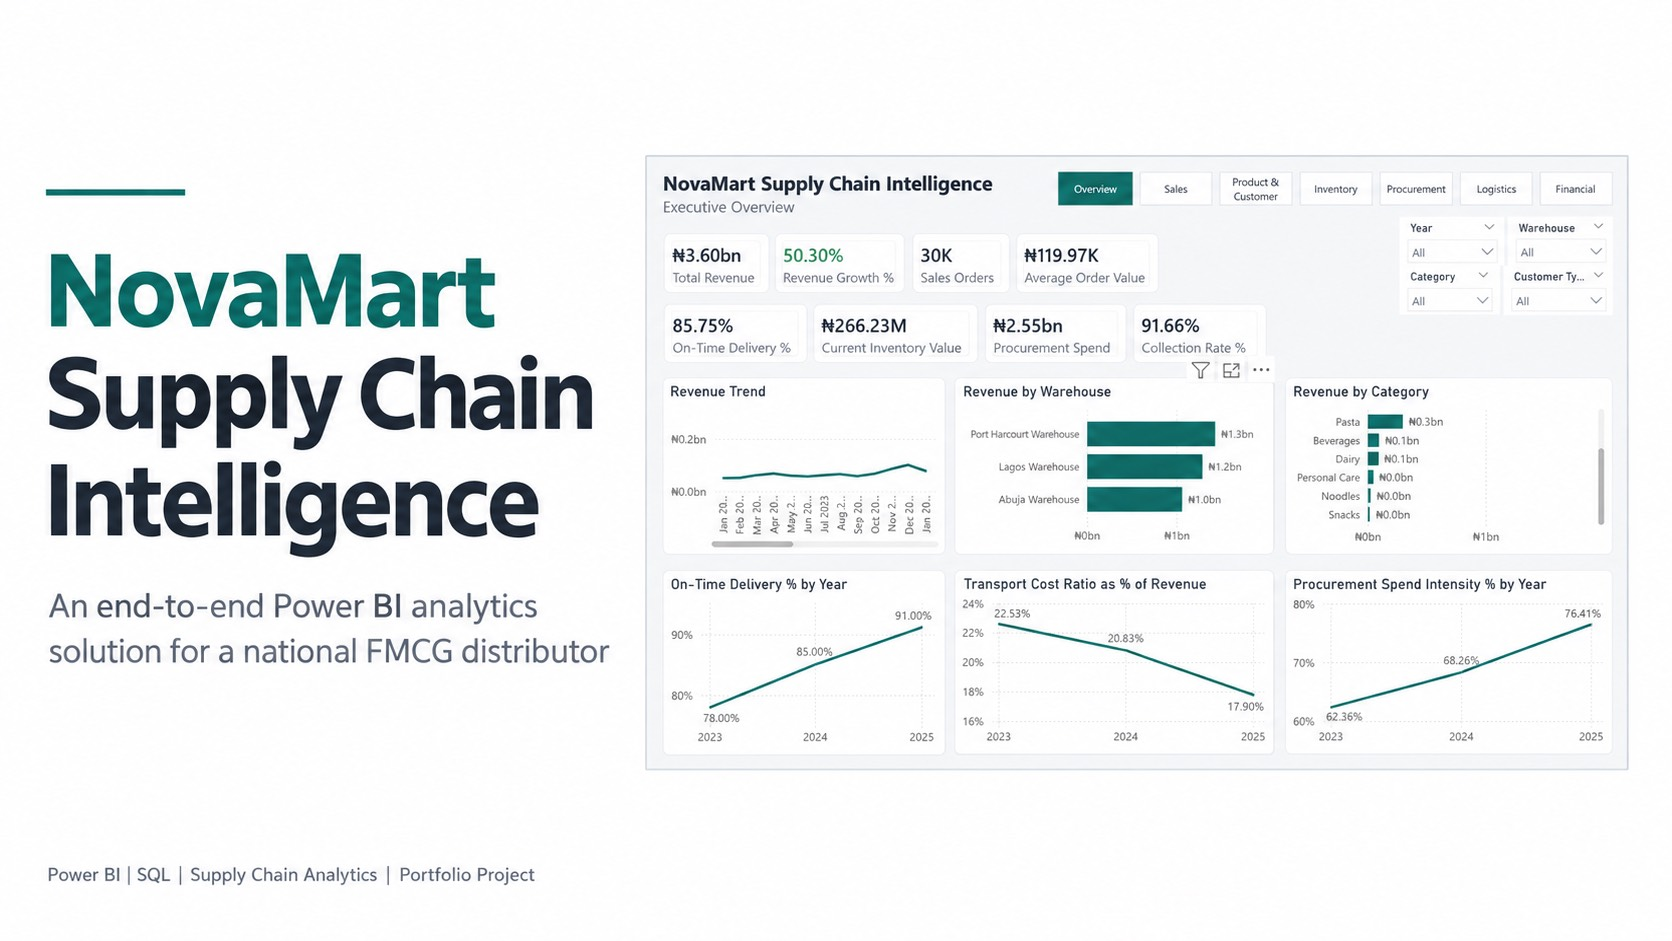

This screenshot's page, from the dashboard's own definition file:
{"tool":"powerbi","page":{"name":"Overview","canvas":[1280,720],"ordinal":0},"visuals":[{"type":"textbox","box":[10,0,443.3,93.3],"z":0},{"type":"slicer","fields":{"Values":["Date.Year"]},"box":[990,65,136.2,58.8],"z":1000},{"type":"slicer","fields":{"Values":["warehouses.WarehouseName"]},"box":[1126.2,62.5,136.2,58.8],"z":2000},{"type":"slicer","fields":{"Values":["categories.CategoryName"]},"box":[990,122.5,125,60],"z":3000},{"type":"slicer","fields":{"Values":["customers.CustomerType"]},"box":[1116.2,122.5,146.2,61.2],"z":4000},{"type":"cardVisual","fields":{"Data":["Measures_Table.Total Revenue"]},"box":[30.5,86.3,119.5,69],"z":5000},{"type":"cardVisual","fields":{"Data":["Measures_Table.Revenue Growth %"]},"box":[153.3,86,153.3,68.8],"z":6000},{"type":"cardVisual","fields":{"Data":["Measures_Table.Sales Orders"]},"box":[323.8,84.5,112.6,70.4],"z":7000},{"type":"cardVisual","fields":{"Data":["Measures_Table.Average Order Value"]},"box":[443,85,169,69],"z":8000},{"type":"cardVisual","fields":{"Data":["Measures_Table.On-Time Delivery %"]},"box":[32,171,169,70],"z":9000},{"type":"cardVisual","fields":{"Data":["Measures_Table.Current Inventory Value"]},"box":[208,172,197,69],"z":10000},{"type":"cardVisual","fields":{"Data":["Measures_Table.Procurement Spend"]},"box":[413,172,165,69],"z":11000},{"type":"cardVisual","fields":{"Data":["Measures_Table.Collection Rate %"]},"box":[586,171,157,70],"z":12000},{"type":"lineChart","title":"Revenue Trend","fields":{"Y":["Measures_Table.Total Revenue"],"Category":["Date.Month Year"]},"box":[30,258,354,212],"z":13000},{"type":"clusteredBarChart","title":"Revenue by Warehouse","fields":{"Category":["warehouses.WarehouseName"],"Y":["Measures_Table.Total Revenue"]},"box":[396,258,432,212],"z":14000},{"type":"clusteredBarChart","title":"Revenue by Category","fields":{"Y":["Measures_Table.Total Revenue"],"Category":["categories.CategoryName"]},"box":[842,258,420,212],"z":15000},{"type":"lineChart","fields":{"Category":["Date.Year"],"Y":["Measures_Table.On-Time Delivery %"]},"box":[32.2,492.2,352.2,217.8],"z":16000},{"type":"lineChart","title":"Transport Cost Ratio as % of Revenue","fields":{"Y":["Measures_Table.Transport Cost Ratio %"],"Category":["Date.Year"]},"box":[396,490,432,218],"z":17000},{"type":"lineChart","fields":{"Category":["Date.Year"],"Y":["Measures_Table.Procurement Spend Intensity %"]},"box":[842,492,420,212],"z":18000},{"type":"pageNavigator","box":[543.3,10,718.3,40],"z":19000}]}

Visuals, with their boxes in screenshot pixels (x1, y1, x2, y2), scaled from the page's 1280x720 canvas onto the 1672x941 screenshot:
textbox: crop(13, 0, 592, 122)
slicer - Date.Year: crop(1293, 85, 1471, 162)
slicer - warehouses.WarehouseName: crop(1471, 82, 1649, 159)
slicer - categories.CategoryName: crop(1293, 160, 1456, 239)
slicer - customers.CustomerType: crop(1458, 160, 1649, 240)
cardVisual - Measures_Table.Total Revenue: crop(40, 113, 196, 203)
cardVisual - Measures_Table.Revenue Growth %: crop(200, 112, 400, 202)
cardVisual - Measures_Table.Sales Orders: crop(423, 110, 570, 202)
cardVisual - Measures_Table.Average Order Value: crop(579, 111, 799, 201)
cardVisual - Measures_Table.On-Time Delivery %: crop(42, 223, 263, 315)
cardVisual - Measures_Table.Current Inventory Value: crop(272, 225, 529, 315)
cardVisual - Measures_Table.Procurement Spend: crop(539, 225, 755, 315)
cardVisual - Measures_Table.Collection Rate %: crop(765, 223, 971, 315)
"Revenue Trend" lineChart: crop(39, 337, 502, 614)
"Revenue by Warehouse" clusteredBarChart: crop(517, 337, 1082, 614)
"Revenue by Category" clusteredBarChart: crop(1100, 337, 1648, 614)
lineChart - Date.Year x Measures_Table.On-Time Delivery %: crop(42, 643, 502, 928)
"Transport Cost Ratio as % of Revenue" lineChart: crop(517, 640, 1082, 925)
lineChart - Date.Year x Measures_Table.Procurement Spend Intensity %: crop(1100, 643, 1648, 920)
pageNavigator: crop(710, 13, 1648, 65)
